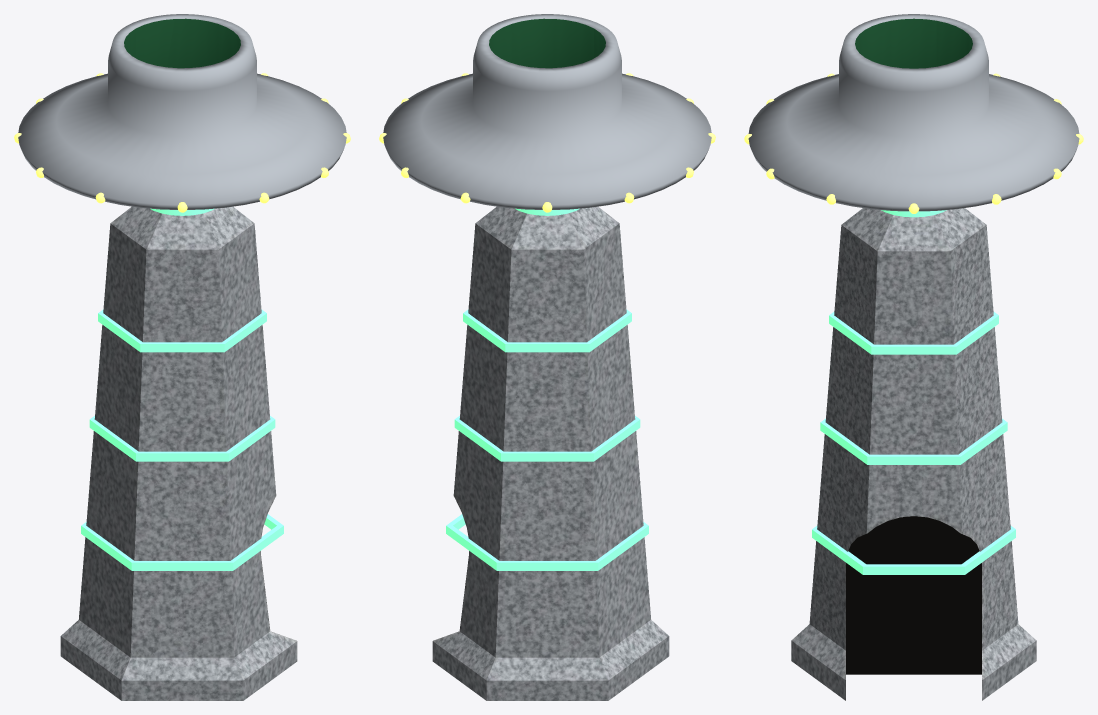
The model's file is alien-beacon.glb.
The picture shows the model from 3 angles, left to right: view 1: azimuth 30°, elevation 25°; view 2: azimuth 150°, elevation 25°; view 3: azimuth 270°, elevation 25°; orthographic projection.
Parts seen in each view (by area): view 1: obelisk, saucer, rings, lights; view 2: obelisk, saucer, rings, lights; view 3: obelisk, saucer, rings, lights.
Boxes of the visible parts, x1,y1,x2,y2 form: obelisk: (60,206,297,700); saucer: (18,14,346,209); rings: (81,208,283,570); lights: (14,73,350,212); obelisk: (432,206,669,700); saucer: (383,14,711,209); rings: (446,208,648,570); lights: (379,73,715,212); obelisk: (791,208,1036,700); saucer: (748,14,1079,211); rings: (812,210,1015,574); lights: (744,73,1083,213).
Bounding box in the file's own units: 7.48 × 15 × 7.48.
Materials: 6 (1 with a texture image).
